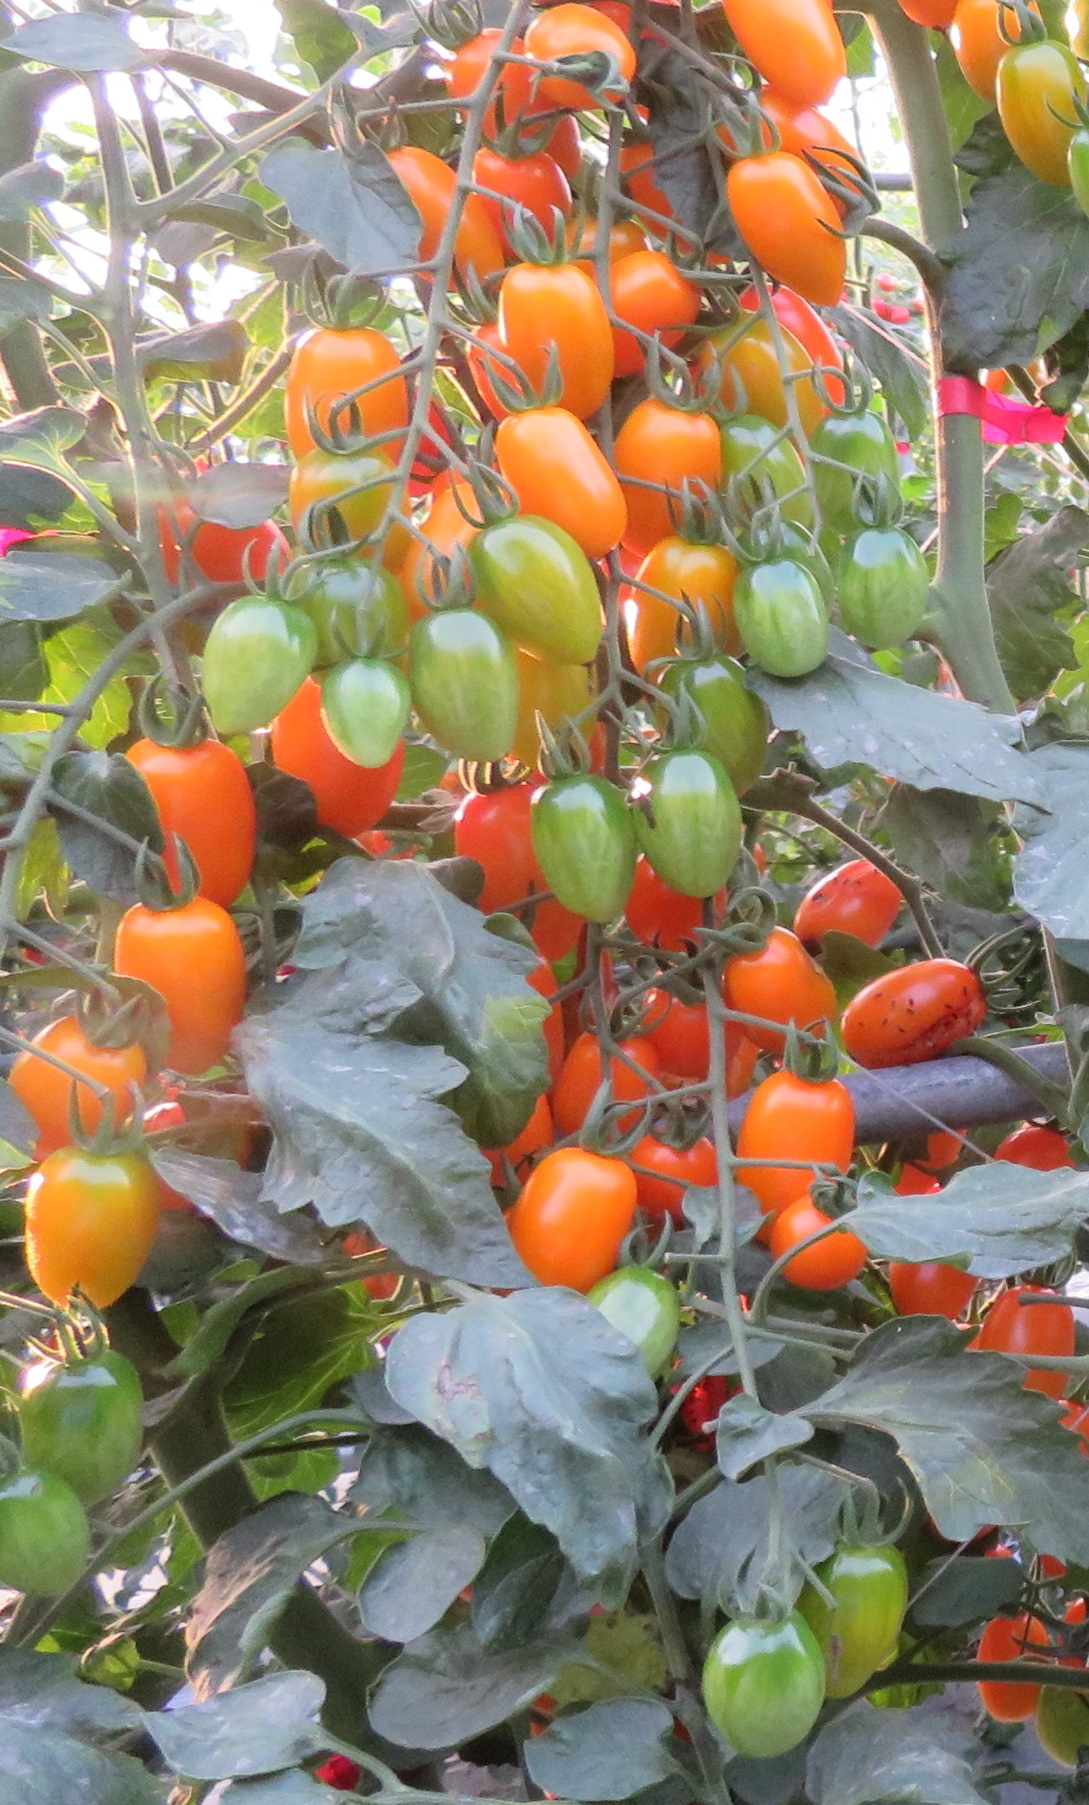green: (10, 1349, 157, 1498), (697, 1606, 831, 1766), (459, 521, 613, 652), (400, 609, 516, 775), (633, 743, 757, 896), (188, 596, 312, 745), (718, 428, 831, 570), (535, 777, 633, 919), (1, 1485, 110, 1606), (824, 1557, 916, 1698), (735, 566, 840, 683), (803, 425, 907, 541), (295, 554, 406, 661), (988, 32, 1057, 191), (652, 664, 766, 757), (296, 444, 412, 534), (840, 523, 925, 641), (322, 664, 397, 775), (607, 1266, 686, 1352)
orange: (710, 153, 865, 304), (30, 1162, 152, 1331), (129, 737, 262, 890), (113, 899, 263, 1030), (497, 396, 625, 545), (21, 1013, 157, 1151), (604, 389, 727, 536), (737, 1071, 860, 1213), (839, 959, 982, 1070), (389, 150, 504, 288), (501, 264, 612, 396), (728, 1, 861, 108), (497, 3, 633, 106), (552, 1025, 665, 1147), (275, 324, 414, 419), (644, 968, 747, 1086), (446, 785, 531, 921), (789, 857, 902, 957), (527, 1151, 613, 1276), (769, 1193, 874, 1292), (978, 1609, 1053, 1726), (628, 1132, 719, 1224), (746, 942, 812, 1028)
